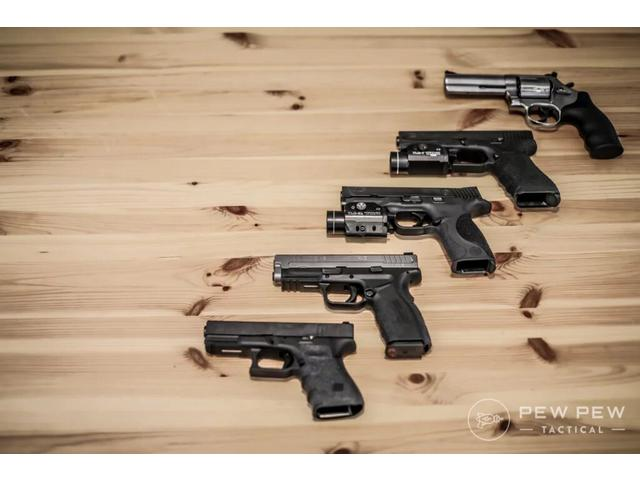pistol: (441, 66, 625, 161), (268, 251, 433, 356), (206, 319, 365, 421), (334, 185, 506, 273), (387, 127, 561, 208)
